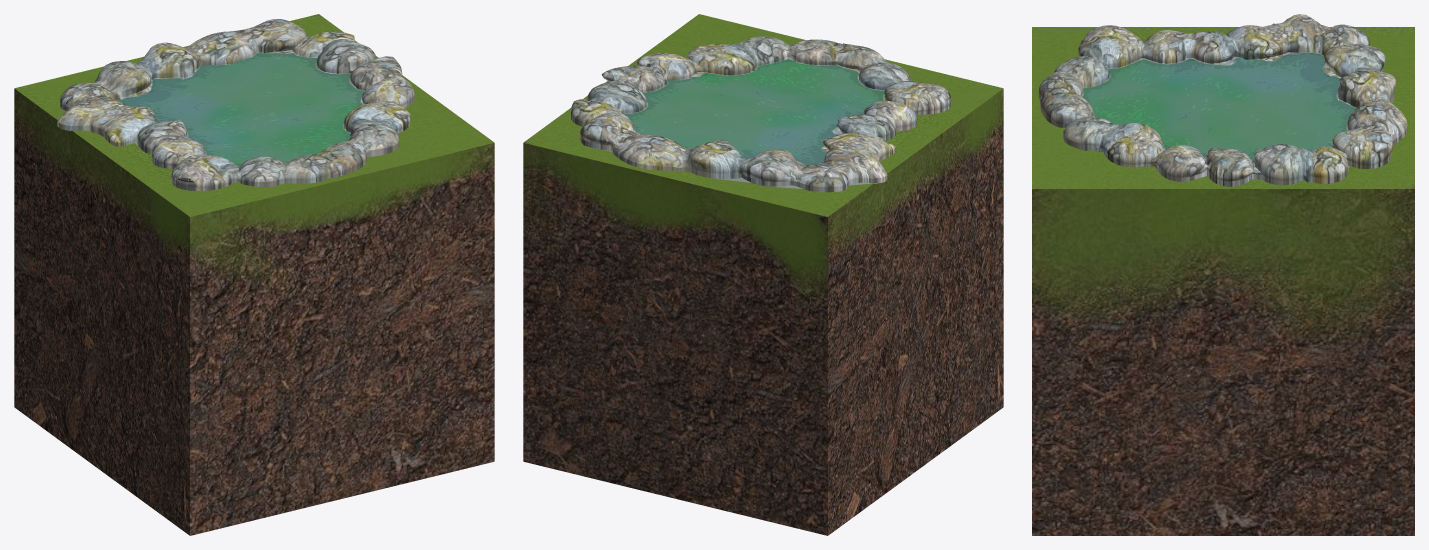
The model's file is Pond.fbx.
3 views of the same model, side by side, from view 1: azimuth 30°, elevation 25°; view 2: azimuth 150°, elevation 25°; view 3: azimuth 270°, elevation 25° (orthographic). The views are drawn at different scales.
Parts seen in each view (by area): view 1: Cube, pSphere20; view 2: Cube, pSphere20; view 3: Cube, pSphere20.
Part boxes in pixels (bbox=[...]): Cube: bbox=[14, 14, 494, 535]; pSphere20: bbox=[57, 19, 414, 190]; Cube: bbox=[523, 14, 1003, 535]; pSphere20: bbox=[571, 36, 951, 192]; Cube: bbox=[1032, 27, 1414, 535]; pSphere20: bbox=[1038, 14, 1407, 186].
Size of the model in its own units: 204 by 213 by 200.
Materials: 2 (2 with a texture image).
